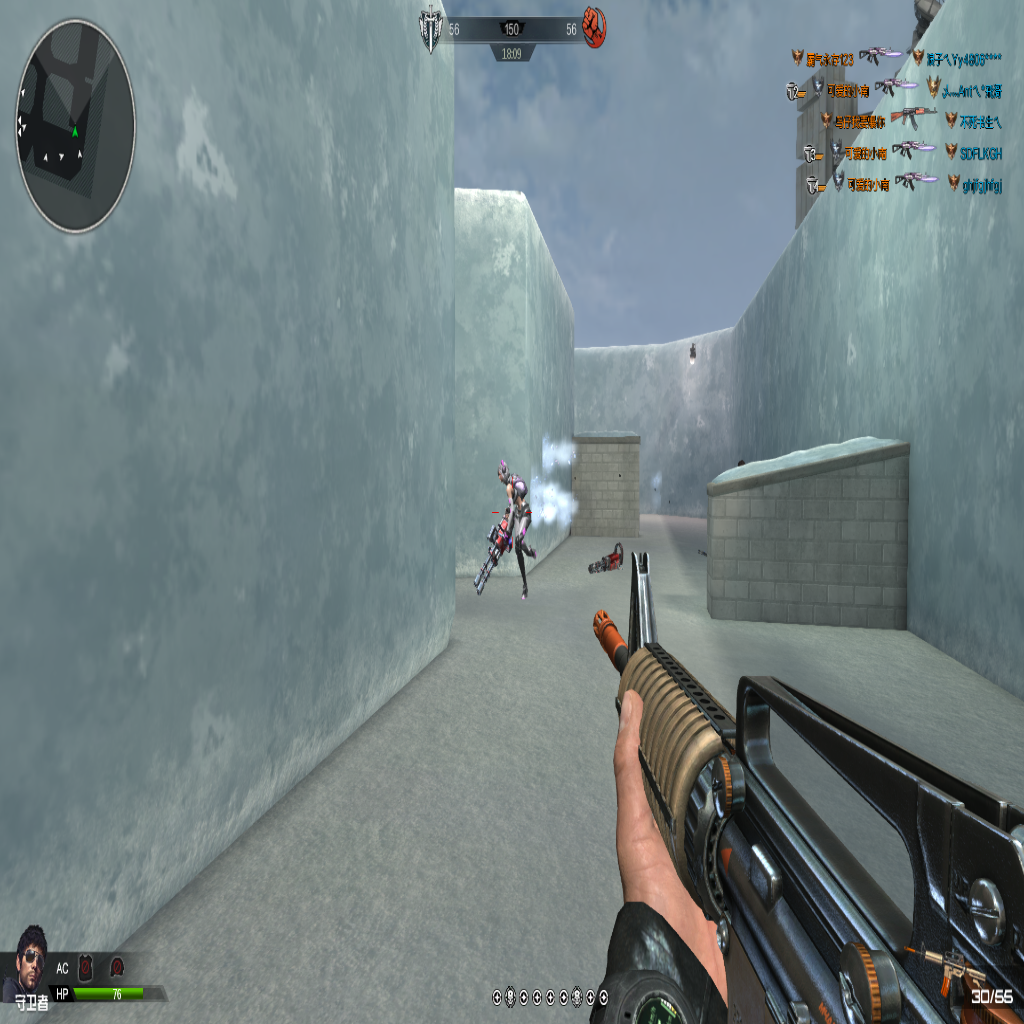tt: (478, 461, 536, 588)
